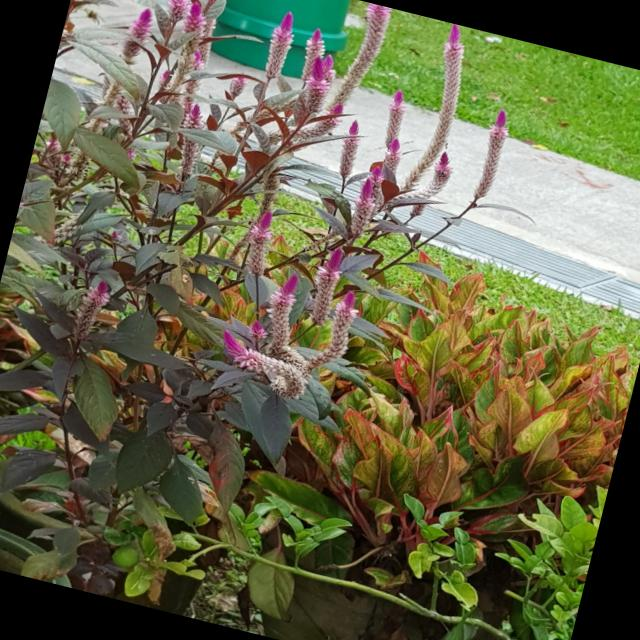Celosia-Argentea: (400, 27, 478, 184), (241, 5, 355, 111), (298, 286, 388, 394), (207, 331, 317, 411), (334, 3, 396, 130), (463, 91, 524, 220), (240, 262, 306, 374), (336, 170, 408, 266), (292, 233, 356, 340), (52, 272, 118, 375), (164, 0, 233, 83), (405, 139, 470, 221), (232, 194, 286, 286), (110, 0, 167, 73), (371, 64, 414, 150), (325, 113, 374, 184), (368, 122, 410, 192), (145, 0, 196, 33)
